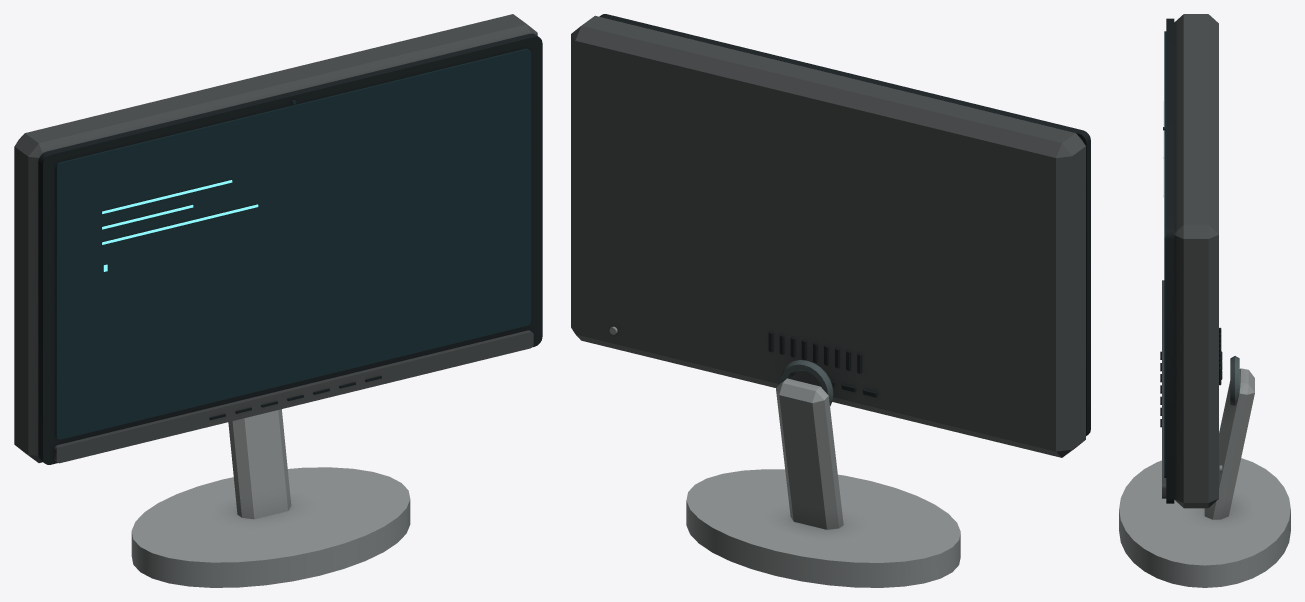
Rendered from monoblock_pc.glb.
The picture shows the model from 3 angles, left to right: view 1: azimuth 30°, elevation 25°; view 2: azimuth 150°, elevation 25°; view 3: azimuth 270°, elevation 25°; orthographic projection. The views are drawn at different scales.
Visible parts, largest first — view 1: monoblock_pc; view 2: monoblock_pc; view 3: monoblock_pc.
Part boxes in pixels (box(x1,y1,x2,y2)): monoblock_pc: box(14, 14, 542, 587); monoblock_pc: box(571, 14, 1090, 587); monoblock_pc: box(1119, 14, 1290, 587).
Size of the model in its own units: 0.588 by 0.5135 by 0.194.
Materials: 2 (1 with a texture image).
